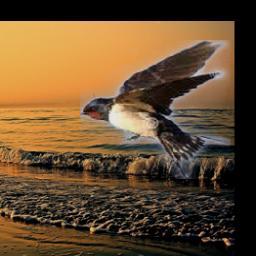Swallow: (80, 40, 231, 179)
